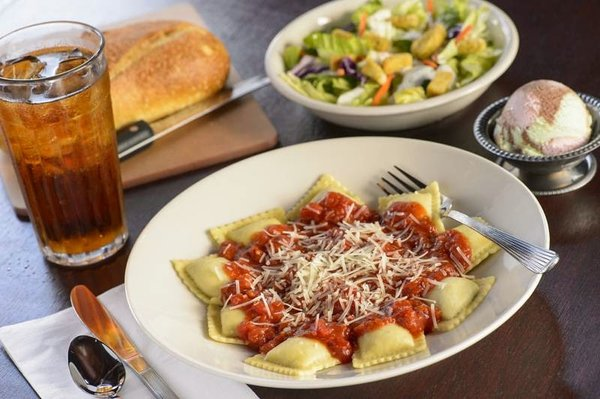salad: (70, 284, 178, 398), (67, 335, 127, 398)
sandwich: (116, 72, 274, 163)
soup: (103, 19, 231, 127)
sushi: (265, 1, 519, 134), (473, 80, 600, 195)
